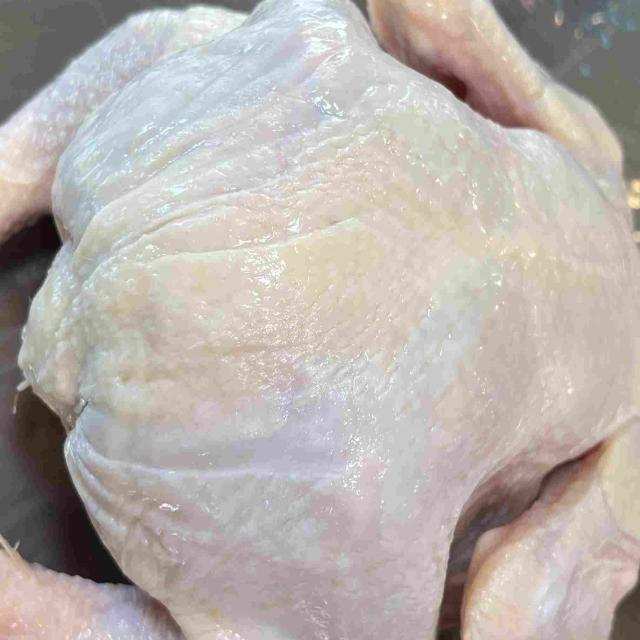back: (20, 84, 628, 543)
leg: (0, 0, 369, 235), (0, 499, 419, 640)
wing: (368, 0, 629, 173), (467, 402, 640, 640)
